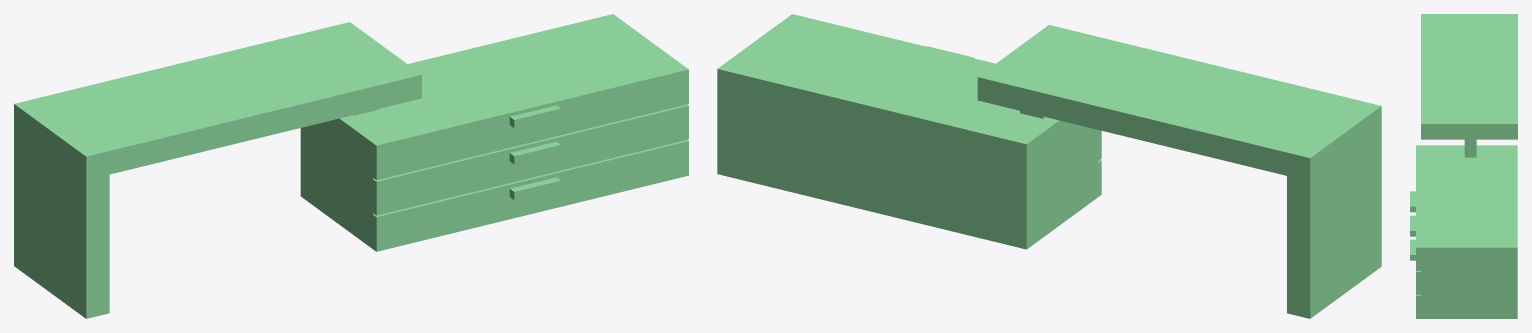
The model's file is Desk_1.FBX.
3 views of the same model, side by side, from view 1: azimuth 30°, elevation 25°; view 2: azimuth 150°, elevation 25°; view 3: azimuth 270°, elevation 25° (orthographic). The views are drawn at different scales.
Visible parts, largest first — view 1: Desk_1; view 2: Desk_1; view 3: Desk_1.
Part boxes in pixels (left/top/right/bottom): Desk_1: left=14, top=14, right=688, bottom=318; Desk_1: left=717, top=14, right=1381, bottom=318; Desk_1: left=1410, top=14, right=1517, bottom=318.
Size of the model in its own units: 4.34 by 1.12 by 1.01.
